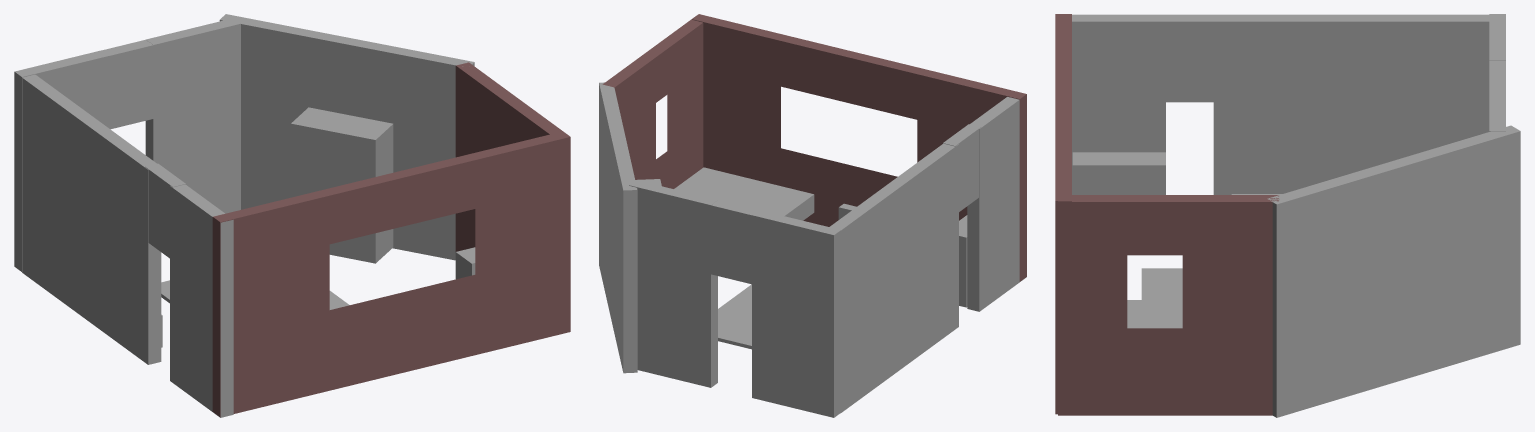
File: whiteblock_hoperoom.fbx
3 renders of one model, left to right at view 1: azimuth 30°, elevation 25°; view 2: azimuth 150°, elevation 25°; view 3: azimuth 270°, elevation 25°, orthographic. The views are drawn at different scales.
Parts seen in each view (by area): view 1: Wall_bigWindow, Wall_bathroom_1, Wall_diagonal, Wall_entry_3, Wall_bathroom_3, Wardrobe, Wall_littleWindow, Wall_entry_1, Wall_entry_2, Wall_bathroom_2, Nightstand; view 2: Wall_bigWindow, Wall_bathroom_1, Wall_entry_1, Wall_entry_3, Wall_littleWindow, Wall_bathroom_3, Wall_diagonal, Bed, Wall_entry_2, Wall_bathroom_2, Playing_carpet, Shelf; view 3: Wall_diagonal, Wall_littleWindow, Wall_bathroom_1, Wall_bathroom_3, Wall_bathroom_2, Shelf, Wall_bigWindow, Playing_carpet, Wall_entry_3, Wall_entry_1, Bed.
Boxes of the visible parts, box(x1,y1,x2,y2) form: Wall_bigWindow: box(212, 131, 570, 417); Wall_bathroom_1: box(22, 74, 161, 364); Wall_diagonal: box(219, 14, 474, 260); Wall_entry_3: box(145, 18, 240, 213); Wall_bathroom_3: box(170, 184, 233, 417); Wardrobe: box(291, 107, 393, 263); Wall_littleWindow: box(455, 62, 567, 251); Wall_entry_1: box(14, 50, 109, 271); Wall_entry_2: box(102, 39, 155, 129); Wall_bathroom_2: box(145, 163, 185, 258); Nightstand: box(455, 247, 475, 279); Wall_bigWindow: box(692, 14, 1026, 281); Wall_bathroom_1: box(829, 143, 958, 412); Wall_entry_1: box(752, 210, 840, 417); Wall_entry_3: box(629, 180, 717, 387); Wall_littleWindow: box(602, 19, 703, 188); Wall_bathroom_3: box(967, 97, 1026, 311); Wall_diagonal: box(599, 82, 637, 373); Bed: box(674, 167, 814, 220); Wall_entry_2: box(708, 200, 758, 284); Wall_bathroom_2: box(943, 124, 980, 211); Playing_carpet: box(718, 284, 751, 349); Shelf: box(959, 215, 967, 307); Wall_diagonal: box(1267, 125, 1520, 417); Wall_littleWindow: box(1058, 195, 1279, 415); Wall_bathroom_1: box(1213, 14, 1489, 194); Wall_bathroom_3: box(1072, 14, 1165, 194); Wall_bathroom_2: box(1160, 14, 1221, 102); Shelf: box(1072, 152, 1165, 194); Wall_bigWindow: box(1055, 14, 1071, 414); Playing_carpet: box(1141, 268, 1182, 328); Wall_entry_3: box(1489, 84, 1505, 131); Wall_entry_1: box(1489, 14, 1505, 60); Bed: box(1127, 300, 1143, 328).
Bounding box in the file's own units: 5.72 × 3.03 × 5.93.
